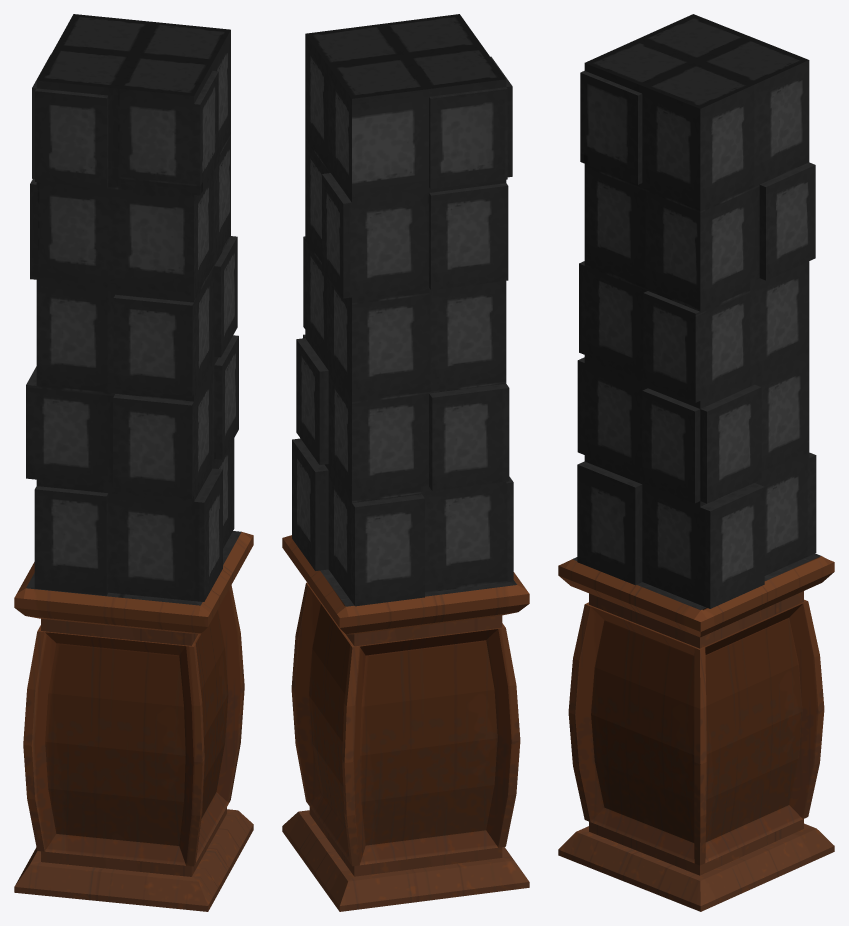
Rendered from Pillar_A.fbx.
3 views of the same model, side by side, from view 1: azimuth 30°, elevation 25°; view 2: azimuth 150°, elevation 25°; view 3: azimuth 270°, elevation 25° (orthographic).
Visible parts, largest first — view 1: Pillar_A.001; view 2: Pillar_A.001; view 3: Pillar_A.001.
Part boxes in pixels (x1,y1,x2,y2): Pillar_A.001: (14, 14, 253, 911); Pillar_A.001: (282, 14, 529, 911); Pillar_A.001: (558, 14, 834, 911).
Size of the model in its own units: 2666 by 8434 by 2666.
Materials: 1 (1 with a texture image).
